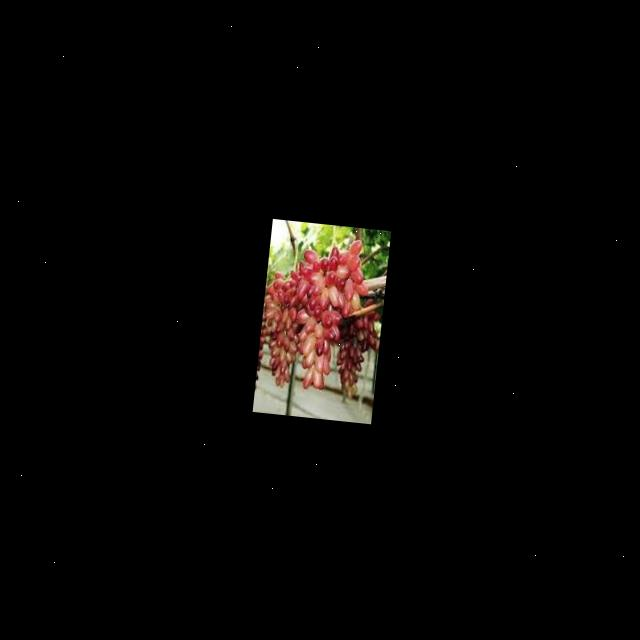grape: (254, 228, 388, 398)
